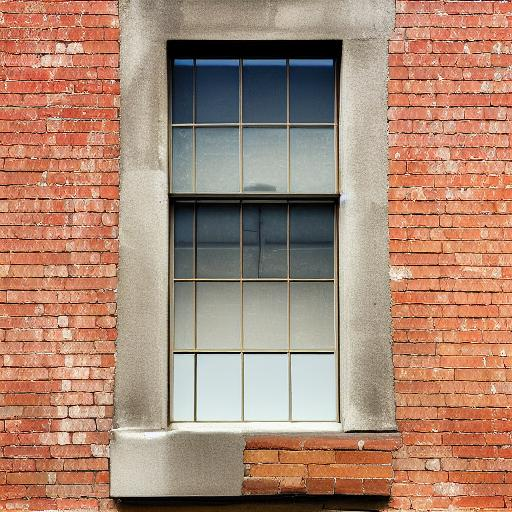Window: (107, 0, 399, 504)
